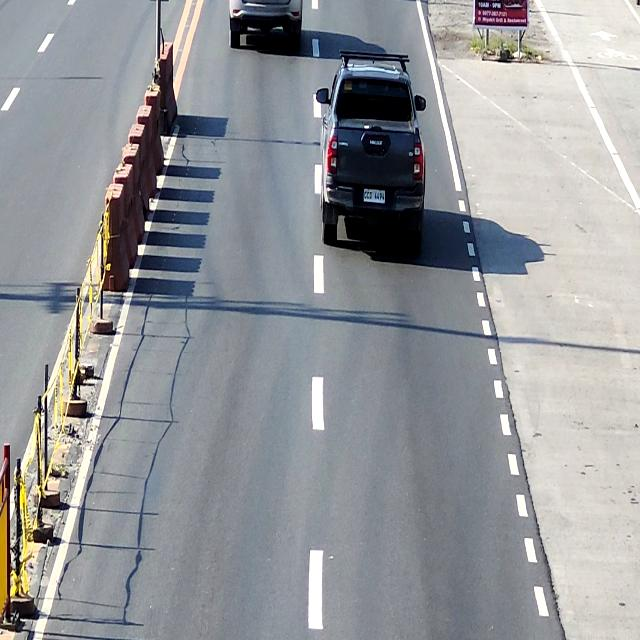Car: (316, 51, 427, 258), (229, 0, 303, 50)
License-Plate: (363, 188, 385, 204)
